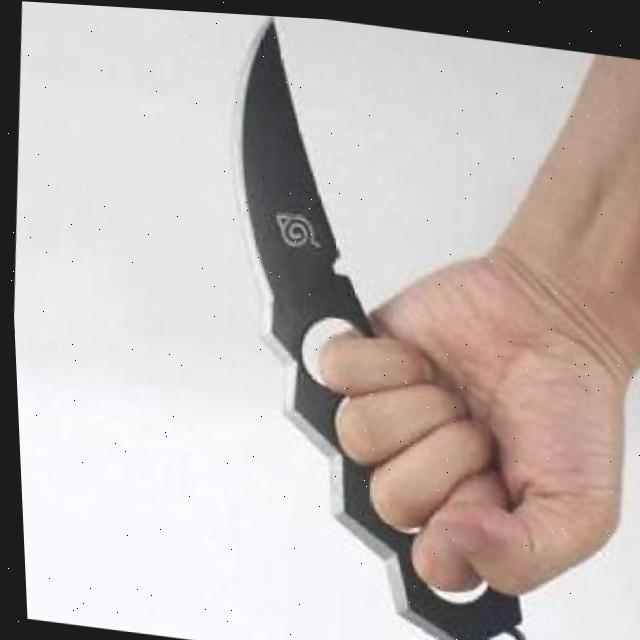knife: (197, 9, 562, 640)
